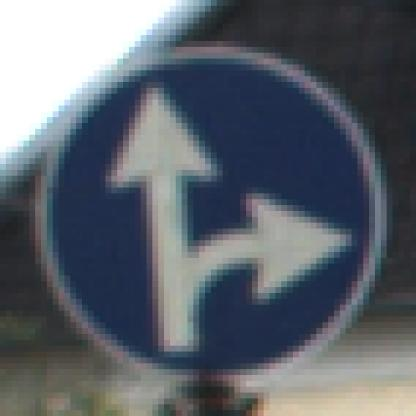Straight or Right: (36, 42, 382, 382)
